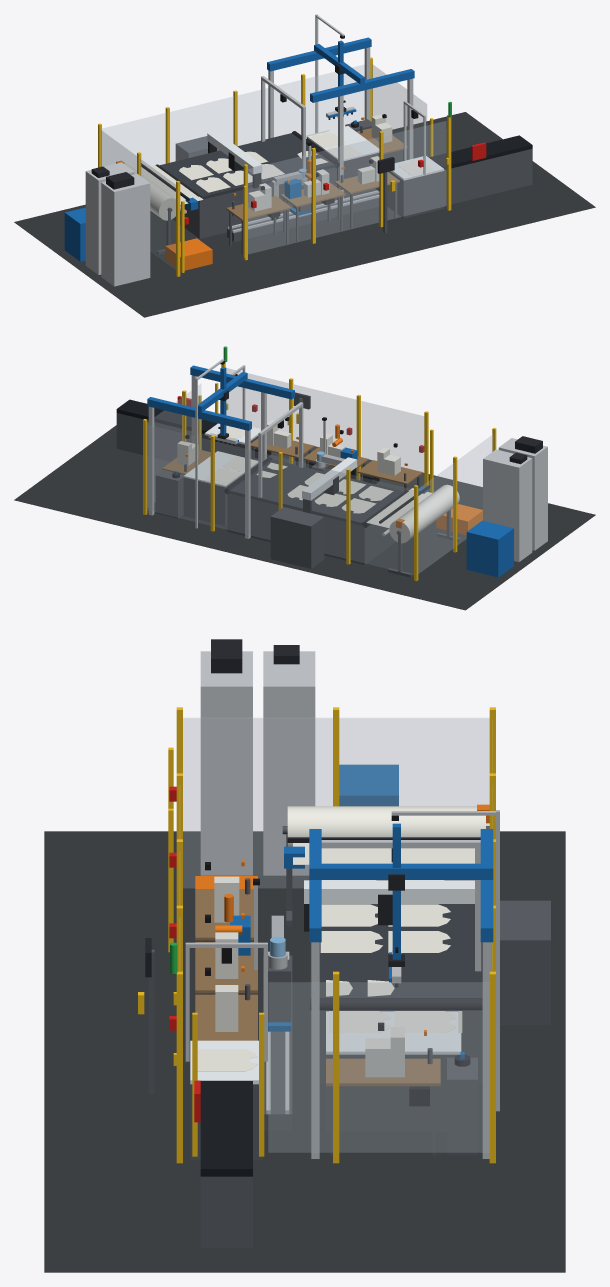
File: cell_concept.glb
3 renders of one model, top to bottom at view 1: azimuth 30°, elevation 25°; view 2: azimuth 150°, elevation 25°; view 3: azimuth 270°, elevation 25°, orthographic. The views are drawn at different scales.
Parts seen in each view (by area): view 1: A00 floor, A00 back guard panel, A00 front guard panel 1, A00 front guard panel 2, A00 front interlocked door, A09 control enclosure Rittal AX (P-ST09-007) housing C6030 (, A00 left guard panel, A07 belt stand, A02 vacuum conveyor felt belt, A00 right guard panel (output opening y 0-850), A02 cutter base, cutting zone (P-ST02-001), A04 Festo EGC-120 X axis (P-ST04-001) (×2) (+24 smaller); view 2: A00 floor, A00 back guard panel, A00 left guard panel, A09 drive enclosure Rittal AX housing economy servo drives (, A00 front guard panel 1, A02 cutter base, cutting zone (P-ST02-001), A00 front guard panel 2, A02 vacuum blower 5.5 kW, outside guard, ducted, A02 vacuum conveyor felt belt, A00 compressor + dryer + FRL (P-ST00-004), A07 belt stand, A04 Festo EGC-120 X axis (P-ST04-001) (×2) (+28 smaller); view 3: A00 floor, A00 right guard panel (output opening y 0-850), A00 left guard panel, A09 control enclosure Rittal AX (P-ST09-007) housing C6030 (, A09 drive enclosure Rittal AX housing economy servo drives (, A02 vacuum blower 5.5 kW, outside guard, ducted, A02 vacuum conveyor felt belt, A01 fabric roll 1.8 m, A03 staging table frame, A07 discharge belt mk GUF-P (P-ST07-003), A07 belt stand, A04 gantry column (×2) (+37 smaller).
Part boxes in pixels (x1,y1,x2,y2): A00 floor: [14, 112, 595, 317]; A00 back guard panel: [102, 65, 364, 169]; A00 front guard panel 1: [248, 154, 310, 253]; A00 front guard panel 2: [316, 137, 378, 237]; A00 front interlocked door: [384, 121, 446, 219]; A09 control enclosure Rittal AX (P-ST09-007) housing C6030 (: [101, 174, 150, 286]; A00 left guard panel: [101, 130, 175, 269]; A07 belt stand: [444, 148, 532, 205]; A02 vacuum conveyor felt belt: [159, 138, 307, 199]; A00 right guard panel (output opening y 0-850): [372, 64, 426, 162]; A02 cutter base, cutting zone (P-ST02-001): [173, 174, 311, 238]; A04 Festo EGC-120 X axis (P-ST04-001) (×2): [267, 37, 414, 102]; A00 floor: [14, 425, 595, 610]; A00 back guard panel: [146, 425, 413, 574]; A00 left guard panel: [418, 434, 493, 573]; A09 drive enclosure Rittal AX housing economy servo drives (: [483, 449, 532, 561]; A00 front guard panel 1: [361, 401, 423, 490]; A02 cutter base, cutting zone (P-ST02-001): [251, 499, 395, 564]; A00 front guard panel 2: [294, 384, 356, 469]; A02 vacuum blower 5.5 kW, outside guard, ducted: [270, 507, 324, 568]; A02 vacuum conveyor felt belt: [251, 465, 404, 525]; A00 compressor + dryer + FRL (P-ST00-004): [466, 520, 513, 577]; A07 belt stand: [116, 413, 204, 461]; A04 Festo EGC-120 X axis (P-ST04-001) (×2): [147, 365, 294, 430]; A00 floor: [44, 831, 565, 1272]; A00 right guard panel (output opening y 0-850): [268, 982, 489, 1152]; A00 left guard panel: [183, 718, 489, 887]; A09 control enclosure Rittal AX (P-ST09-007) housing C6030 (: [200, 651, 252, 875]; A09 drive enclosure Rittal AX housing economy servo drives (: [263, 651, 315, 875]; A02 vacuum blower 5.5 kW, outside guard, ducted: [500, 900, 550, 1025]; A02 vacuum conveyor felt belt: [310, 880, 482, 977]; A01 fabric roll 1.8 m: [287, 806, 485, 846]; A03 staging table frame: [326, 1054, 458, 1131]; A07 discharge belt mk GUF-P (P-ST07-003): [200, 1081, 252, 1176]; A07 belt stand: [200, 1176, 252, 1248]; A04 gantry column (×2): [311, 942, 491, 1158].
Bounding box in the file's own units: 10 × 3.18 × 5.
